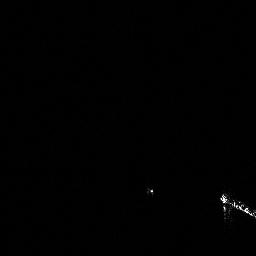ship: (217, 189, 256, 222)
